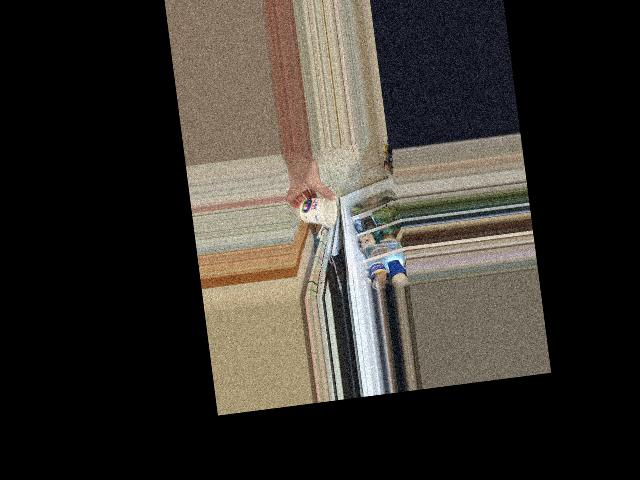cotage: (295, 188, 341, 231)
